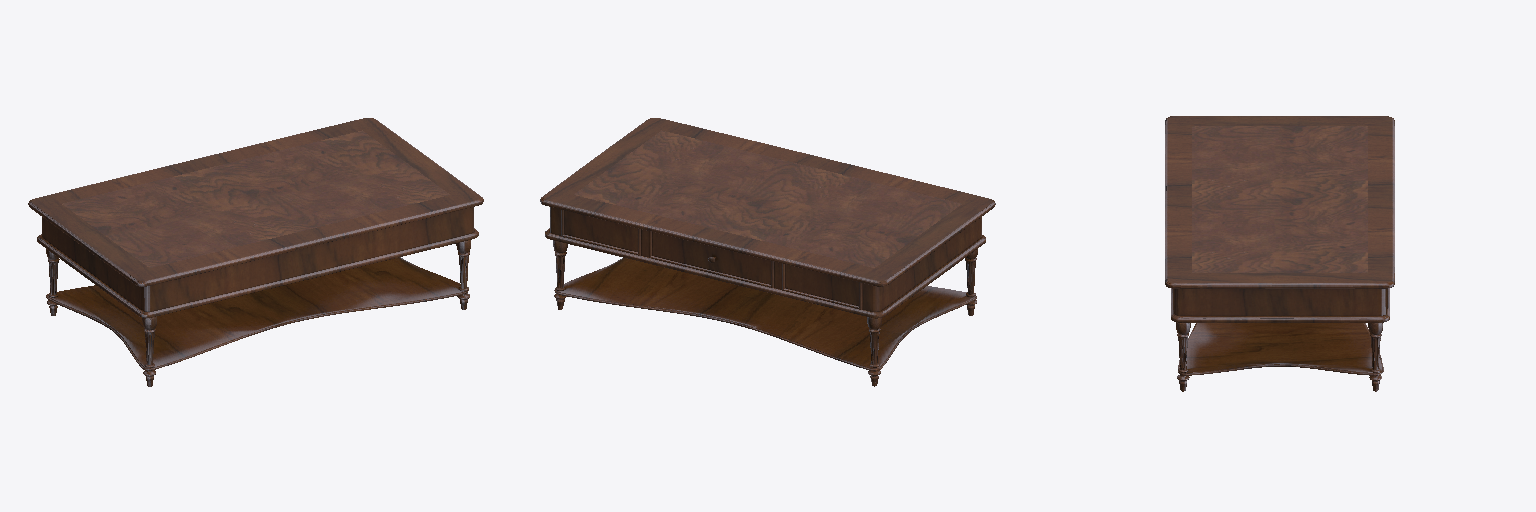
The picture shows the model from 3 angles: view 1: azimuth 30°, elevation 25°; view 2: azimuth 150°, elevation 25°; view 3: azimuth 270°, elevation 25°; orthographic projection.
Visible parts, largest first — view 1: solid_001, solid_002; view 2: solid_001, solid_002; view 3: solid_001, solid_002.
Boxes of the visible parts, <box> form: solid_001: <box>28,118,483,386</box>; solid_002: <box>62,130,449,267</box>; solid_001: <box>540,118,995,386</box>; solid_002: <box>574,130,961,267</box>; solid_001: <box>1165,116,1394,391</box>; solid_002: <box>1192,126,1367,272</box>.
Bounding box in the file's own units: 1.24 × 0.3863 × 0.7125.
Materials: 1 (1 with a texture image).